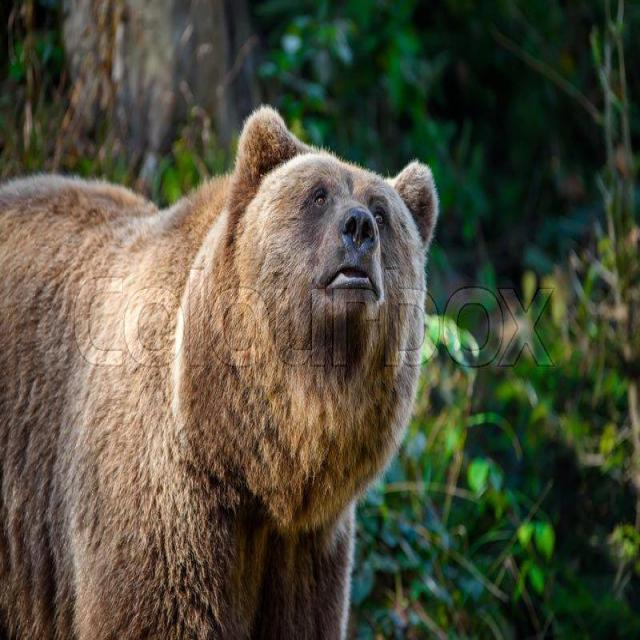Bear: (0, 107, 440, 640)
